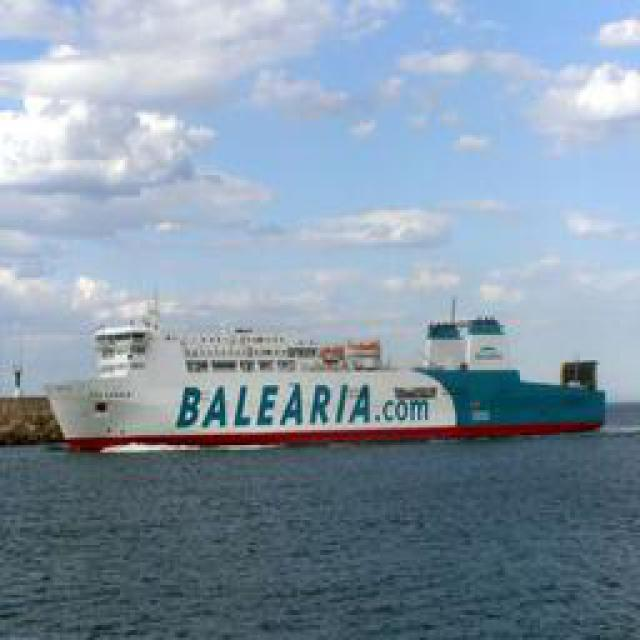Ship: (46, 312, 640, 453)
